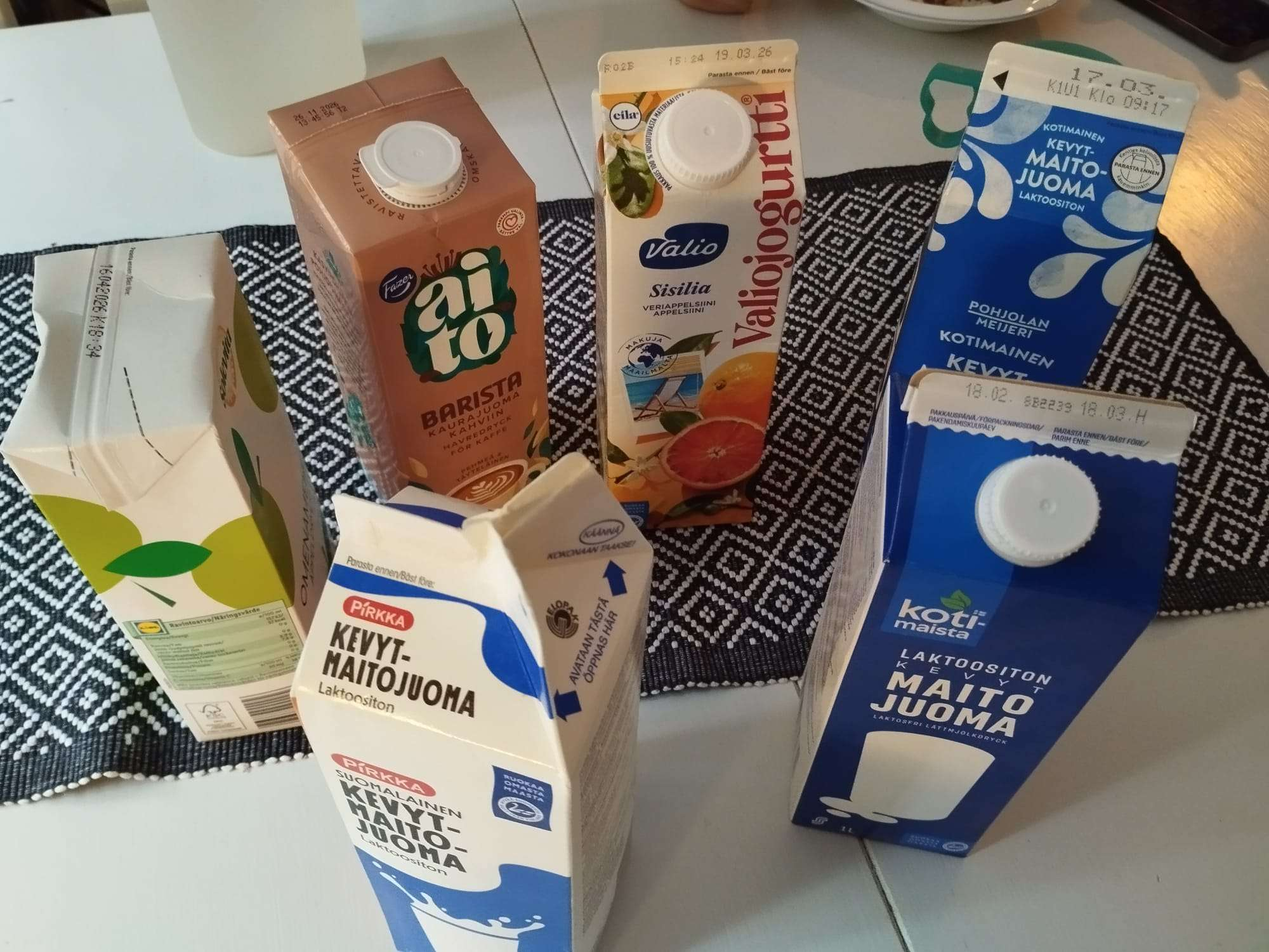Dryckeskartong: (792, 393, 1225, 858), (293, 452, 648, 951), (3, 237, 324, 744), (266, 39, 545, 513), (881, 51, 1225, 392), (589, 33, 802, 524)
